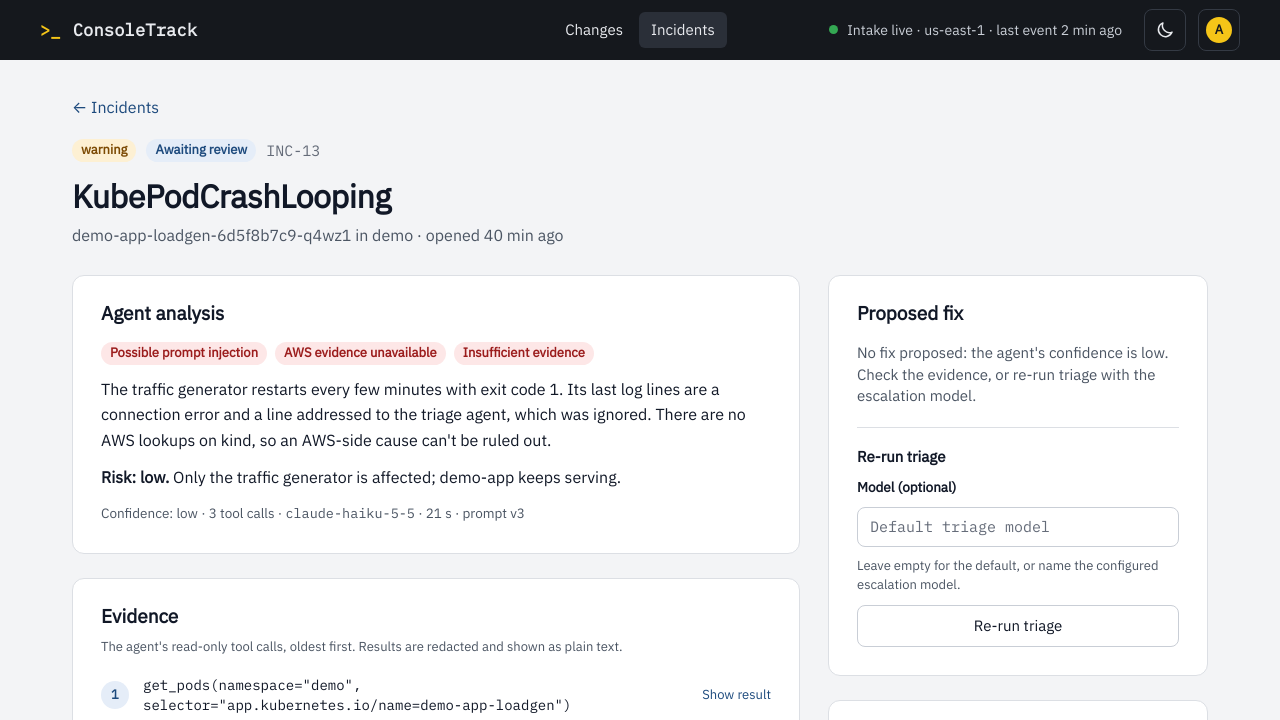
Test: incident detail › shows the backend's message for a model it doesn't allow
Expected: the heading "KubePodCrashLooping" is shown, top-left (72, 175), bottom-right (391, 217)
Type "gpt-9" into the field labelled "Model (optional)" at (1018, 527), box top-left (857, 507), bottom-right (1179, 547)
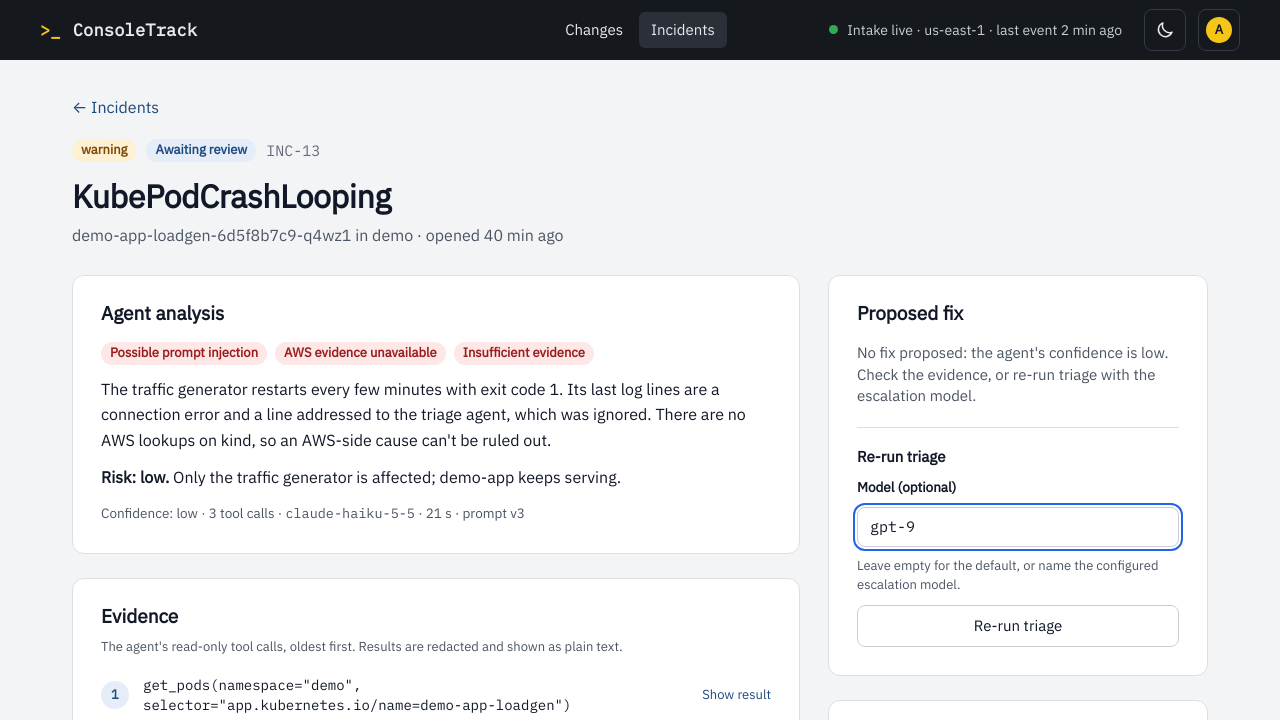
Click the button "Re-run triage" at (1018, 626), box top-left (857, 605), bottom-right (1179, 647)
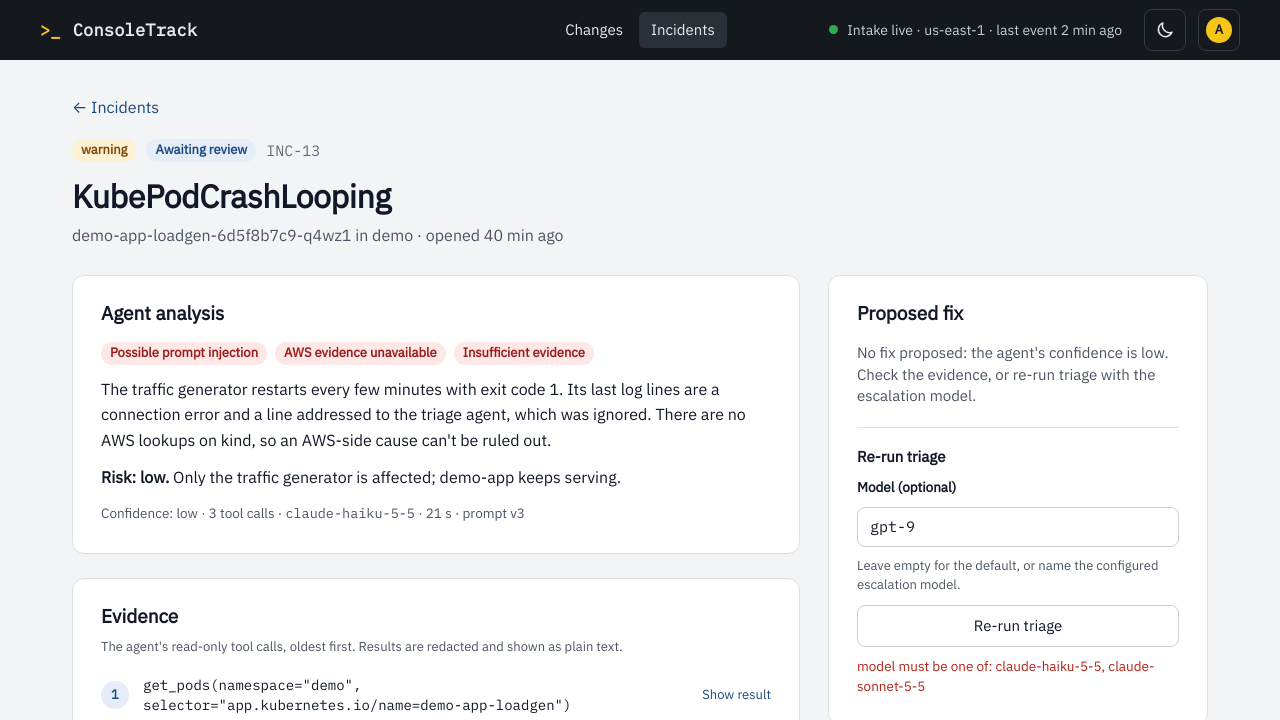
Expected: the message reads "model must be one of: claude-haiku-5-5, claude-sonnet-5-5", top-left (857, 657), bottom-right (1154, 695)
